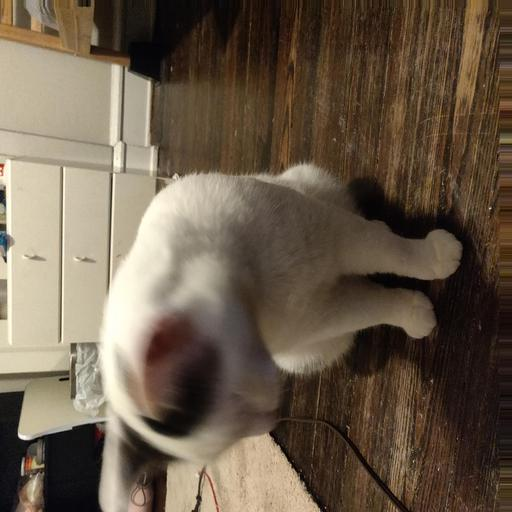cat: (78, 116, 468, 506)
